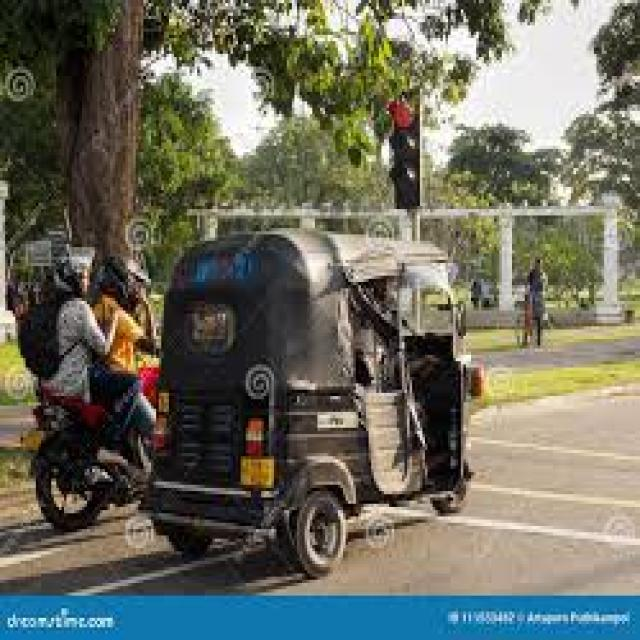motorcycle: (33, 383, 148, 529)
person: (20, 263, 113, 402), (90, 257, 151, 444), (527, 257, 543, 345)
three wheeler: (151, 231, 466, 573)
